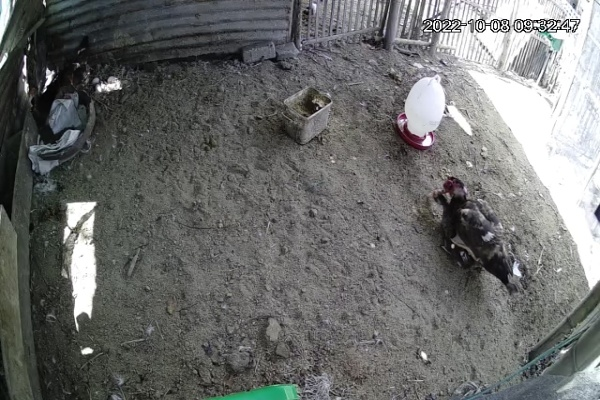Kawin: (416, 164, 537, 303)
